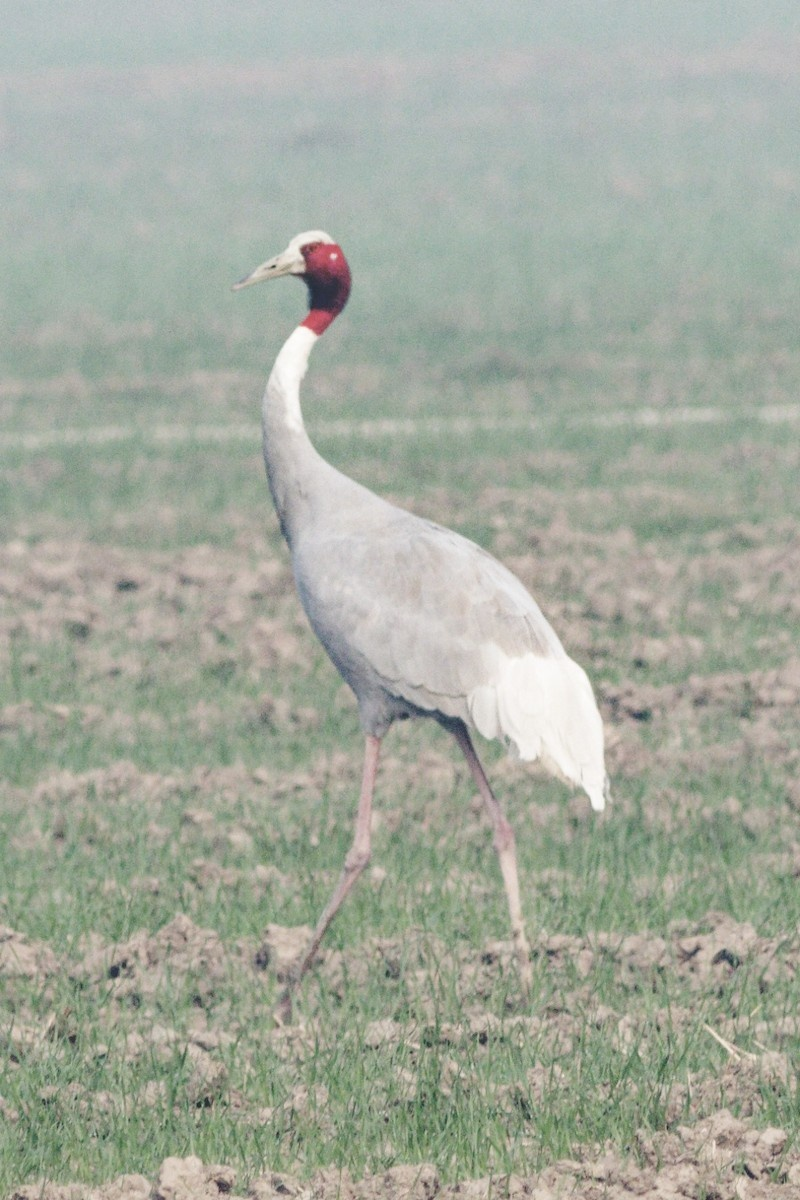crane: (226, 225, 619, 1005)
